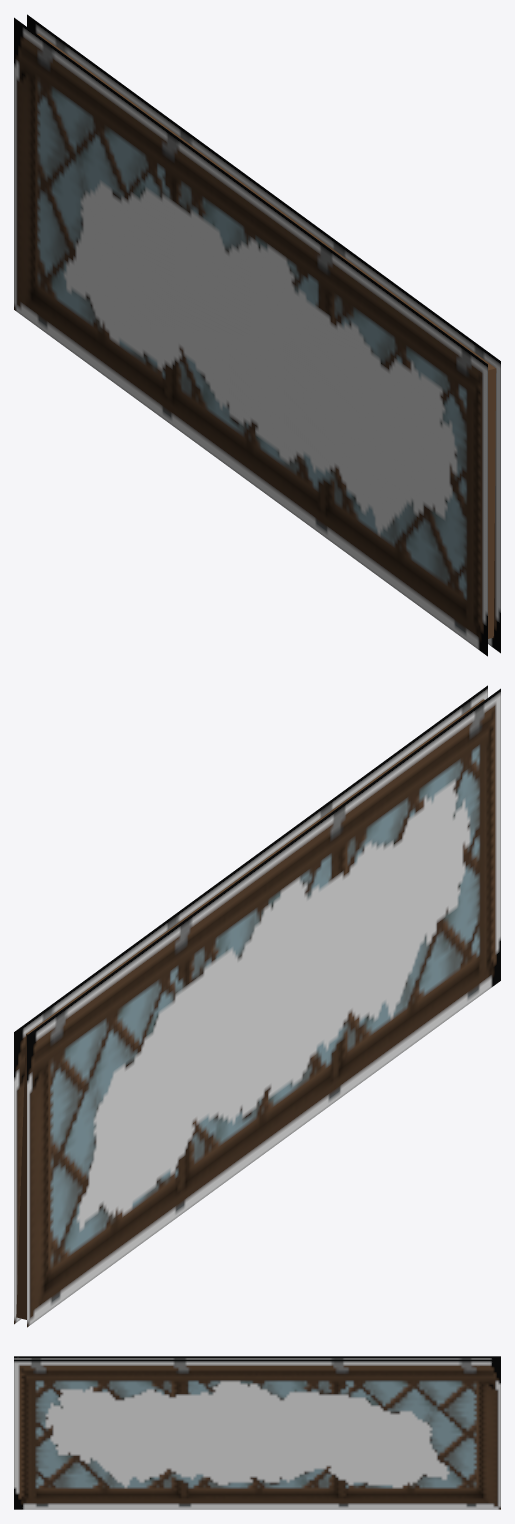
The model's file is pz_native_fixtures_windows_church_84_frame.obj.
3 views of the same model, one above another, from view 1: azimuth 30°, elevation 25°; view 2: azimuth 150°, elevation 25°; view 3: azimuth 270°, elevation 25° (orthographic). The views are drawn at different scales.
Parts seen in each view (by area): view 1: pz_native_fixtures_windows_church_84_frame; view 2: pz_native_fixtures_windows_church_84_frame; view 3: pz_native_fixtures_windows_church_84_frame.
Part boxes in pixels (x1,y1,x2,y2): pz_native_fixtures_windows_church_84_frame: (14, 14, 500, 656); pz_native_fixtures_windows_church_84_frame: (14, 685, 500, 1327); pz_native_fixtures_windows_church_84_frame: (14, 1356, 500, 1509).
Size of the model in its own units: 0.04 by 0.8594 by 2.53.
Materials: 1 (1 with a texture image).
